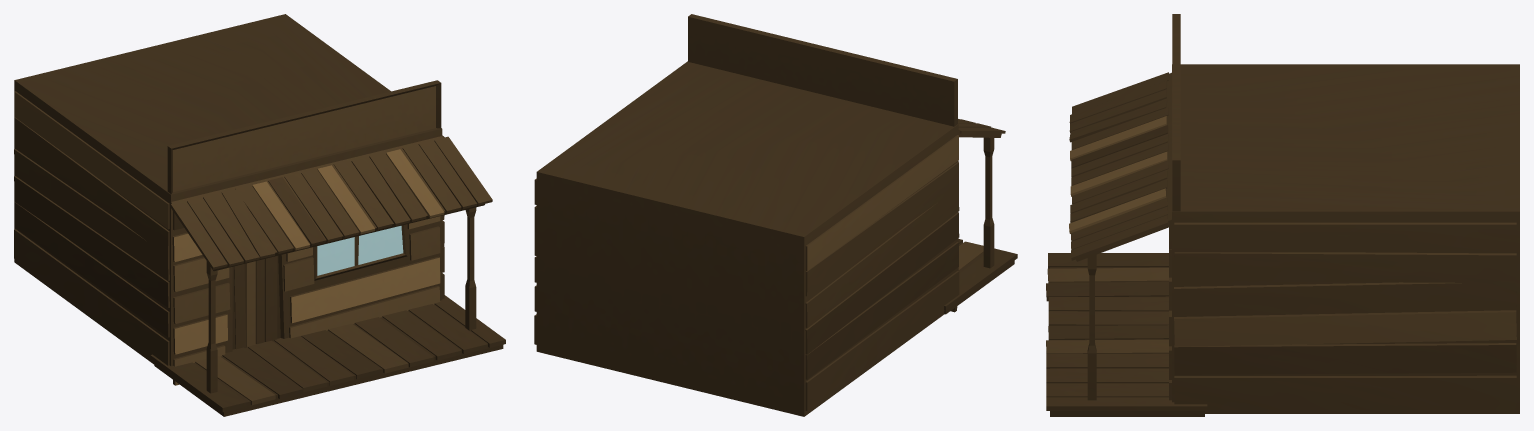
The model's file is UM_Bâtiment_1.fbx.
The picture shows the model from 3 angles, left to right: view 1: azimuth 30°, elevation 25°; view 2: azimuth 150°, elevation 25°; view 3: azimuth 270°, elevation 25°; orthographic projection. The views are drawn at different scales.
Parts seen in each view (by area): view 1: Cube; view 2: Cube; view 3: Cube.
Boxes of the visible parts, box(x1,y1,x2,y2) form: Cube: box(14, 14, 505, 416); Cube: box(534, 14, 1017, 416); Cube: box(1046, 14, 1519, 416).
Size of the model in its own units: 7.08 by 5.67 by 9.26.
